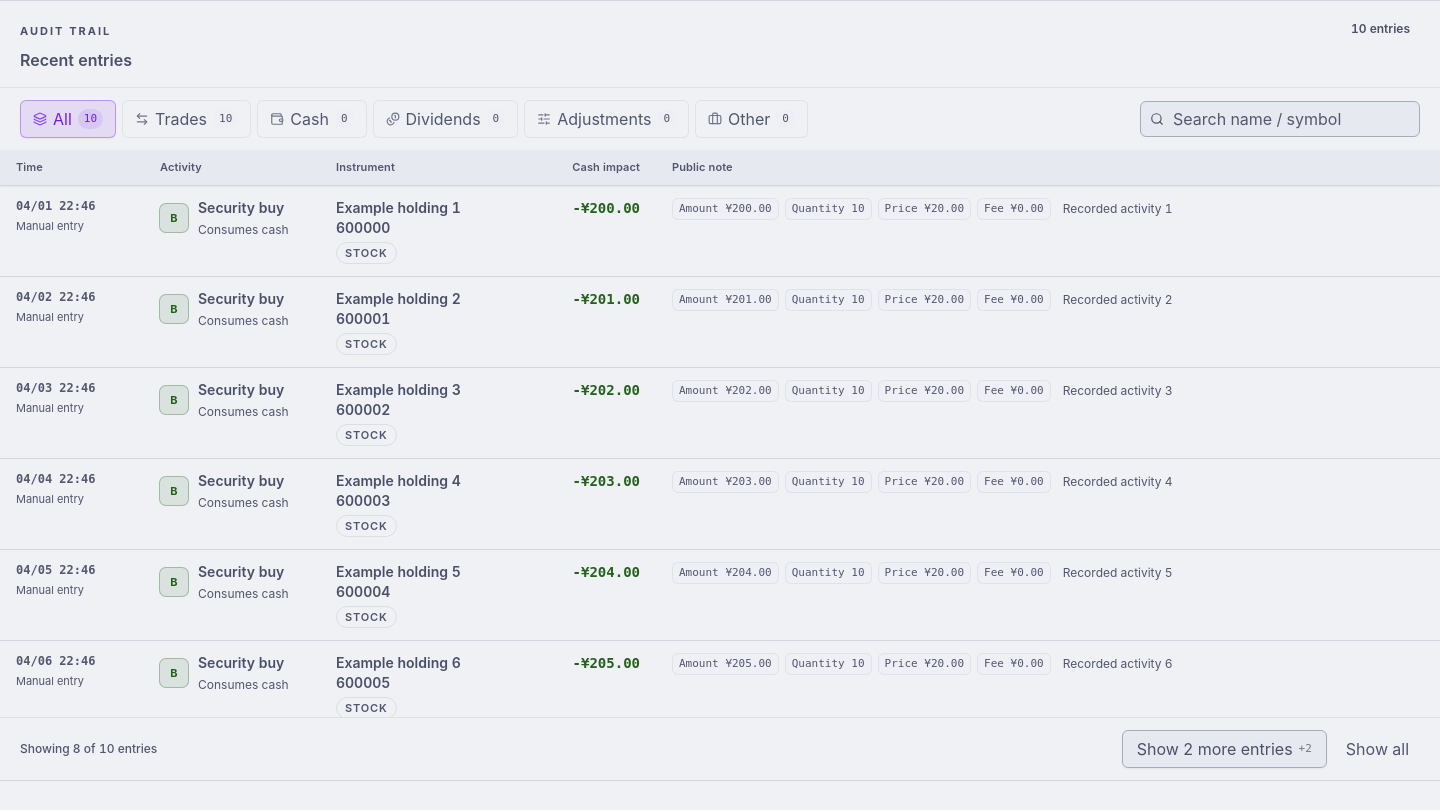
progressively discloses long activity history without a nested vertical scroller
This screenshot has width=1440, height=810.
Expected: the text with test id "activity-history-progress" reads "Showing 8 of 10 entries", [20,741,157,756]
What coordinates should you click on to do the following:
click the button with test id "activity-history-show-more"
I would click on:
 (1224, 749)
Its box is [1122,730,1327,768].
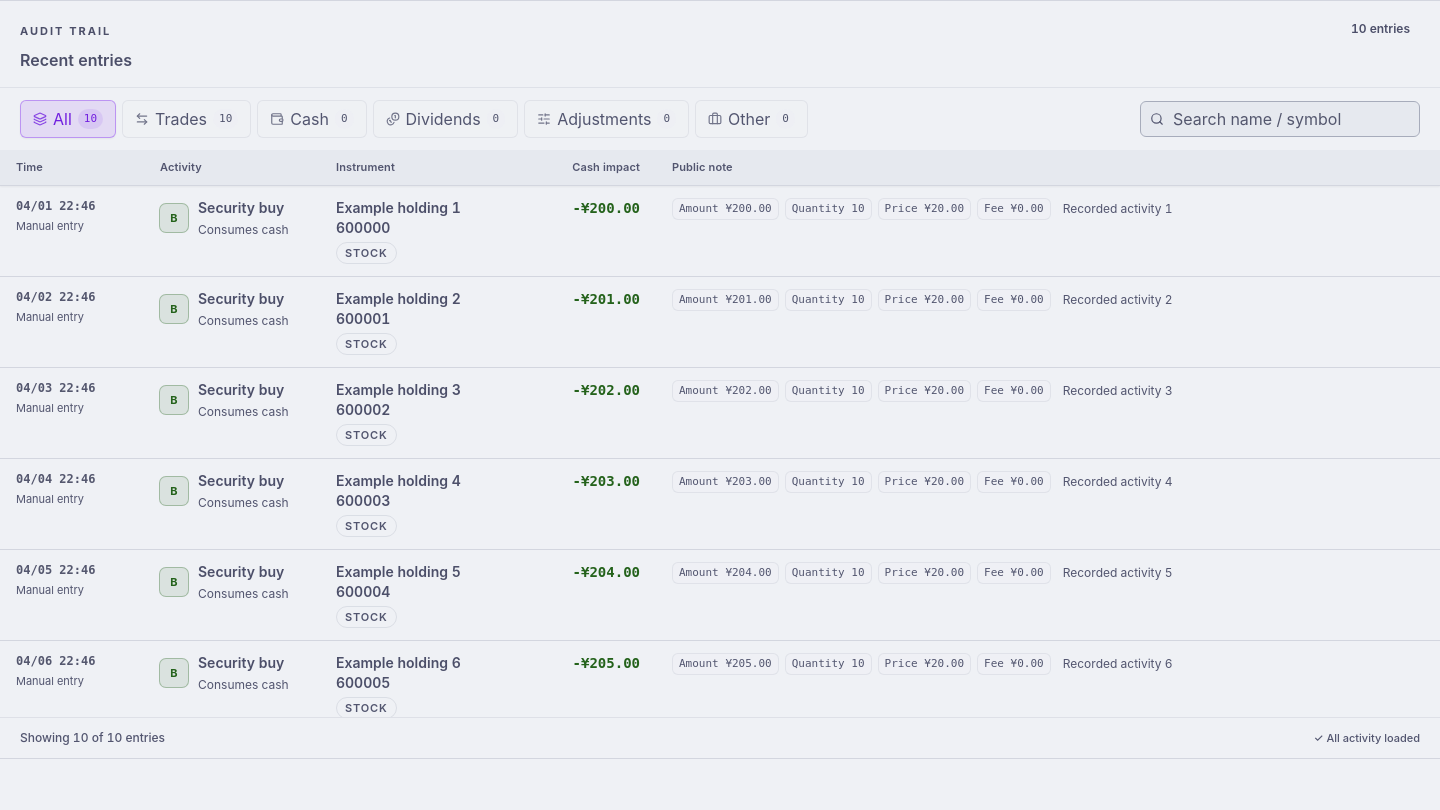
Now the text with test id "activity-history-progress" reads "Showing 10 of 10 entries", box [20,730,165,745]
Now the button with test id "activity-history-show-more" is gone
